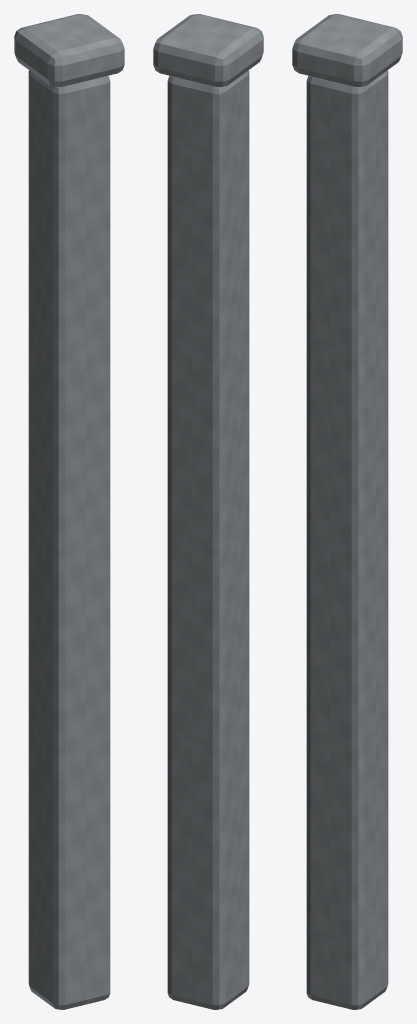
File: Fence_Post.glb
3 renders of one model, left to right at view 1: azimuth 30°, elevation 25°; view 2: azimuth 150°, elevation 25°; view 3: azimuth 330°, elevation 25°, orthographic.
Visible parts, largest first — view 1: EXPORT_Post_0, EXPORT_PostCap_0; view 2: EXPORT_Post_0, EXPORT_PostCap_0; view 3: EXPORT_Post_0, EXPORT_PostCap_0.
Part boxes in pixels (<box>): EXPORT_Post_0: <box>28,70,110,1009</box>; EXPORT_PostCap_0: <box>14,14,124,87</box>; EXPORT_Post_0: <box>167,70,249,1009</box>; EXPORT_PostCap_0: <box>153,14,263,87</box>; EXPORT_Post_0: <box>306,70,388,1009</box>; EXPORT_PostCap_0: <box>292,14,402,87</box>.
Bounding box in the file's own units: 0.2 × 2.44 × 0.2.
1 material, 1 textured.
